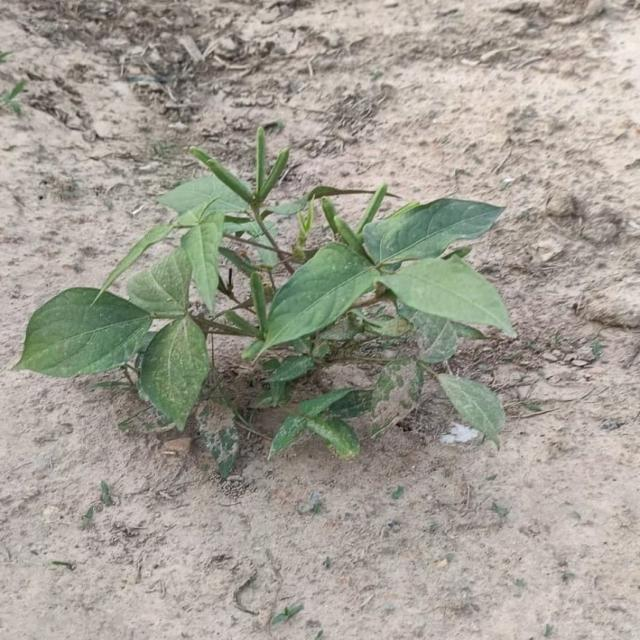plant: (17, 128, 513, 456)
